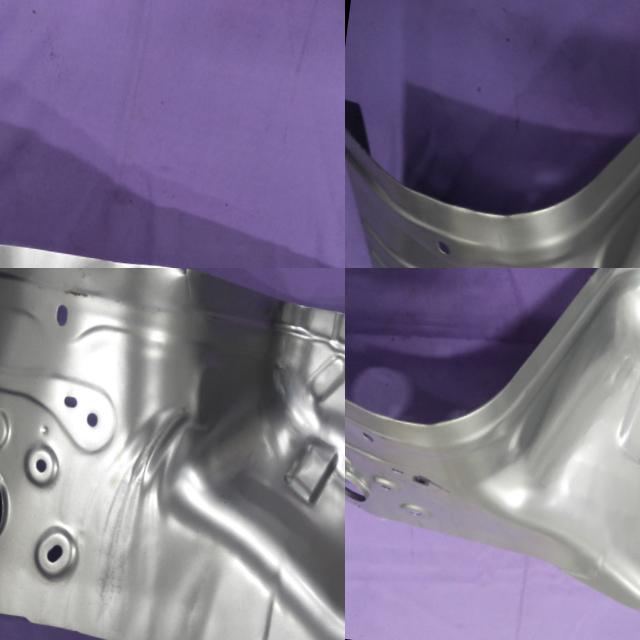Healthy: (345, 268, 640, 640), (345, 5, 640, 268)
rust: (44, 268, 116, 320), (25, 268, 97, 281), (108, 268, 169, 279)
